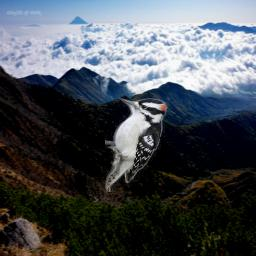Woodpecker: (105, 94, 172, 192)
